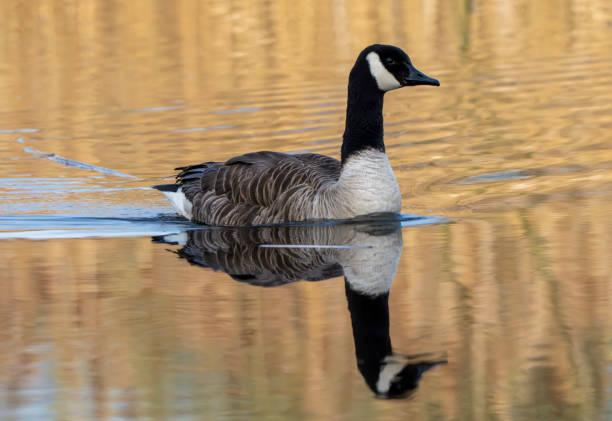Canadian-Goose: (157, 42, 438, 221)
